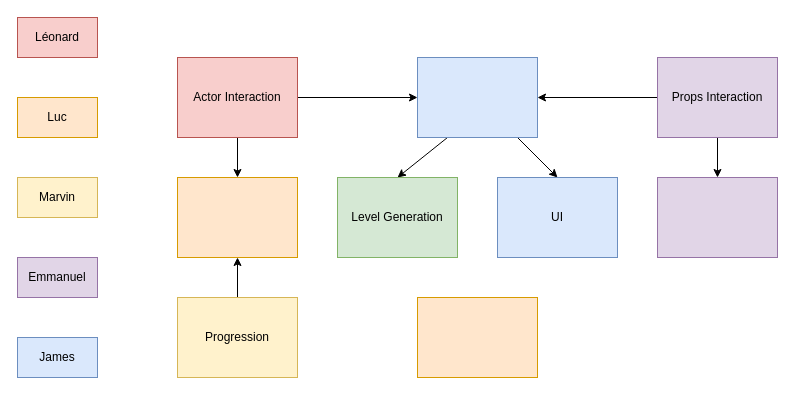
Some shapes in this 795 by 395 pixel diagram are drawn without their labels. Each missing label, with the centre of its shape:
Actors (Joueur/NPC): point (237, 217)
Level: point (477, 97)
Planif/ Coordination: point (477, 337)
Props: point (717, 217)
